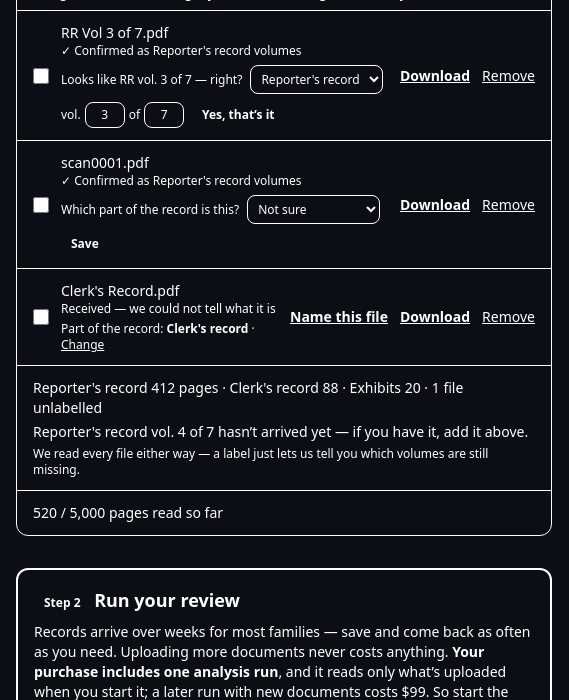
Test case: documents page — volume labels and the inventory (workstream D) › a confirmed label reads as a fact with a way to change it
(page scrolled)
Expected: the element with test id "volume-doc_3" shows "Part of the record: Clerk's record", [61,321,278,353]
Click the button "Change": [83, 345] box [61,337,104,353]
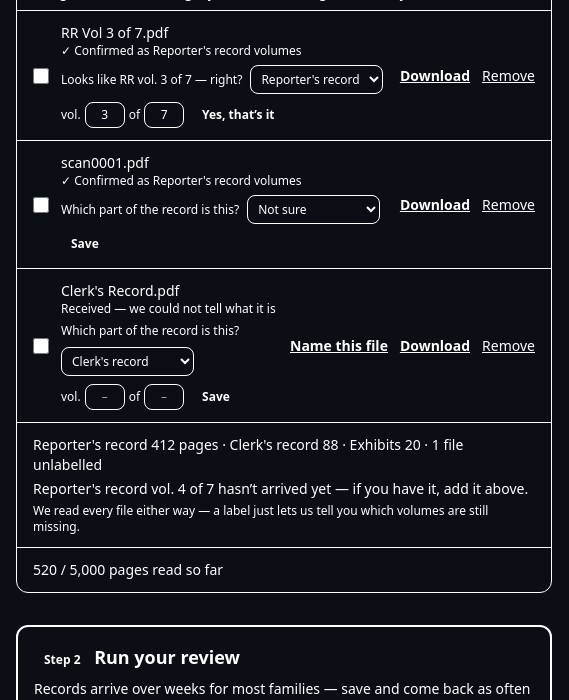
Expected: the dropdown named "Part of the record for Clerk's Record.pdf" shows "Clerk's record", [61,347,194,376]
